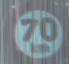Speed limit: (7, 5, 63, 55)
